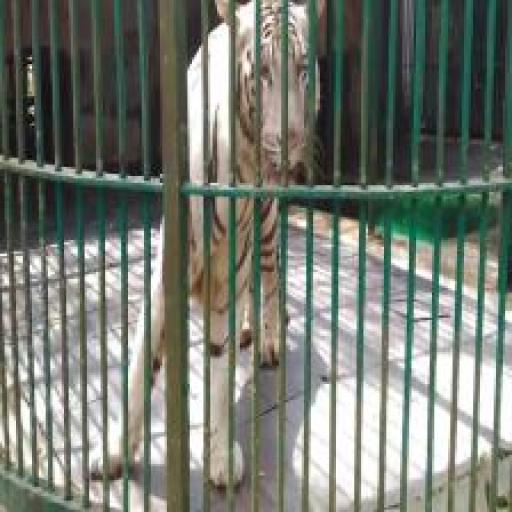Tiger: (79, 0, 331, 490)
